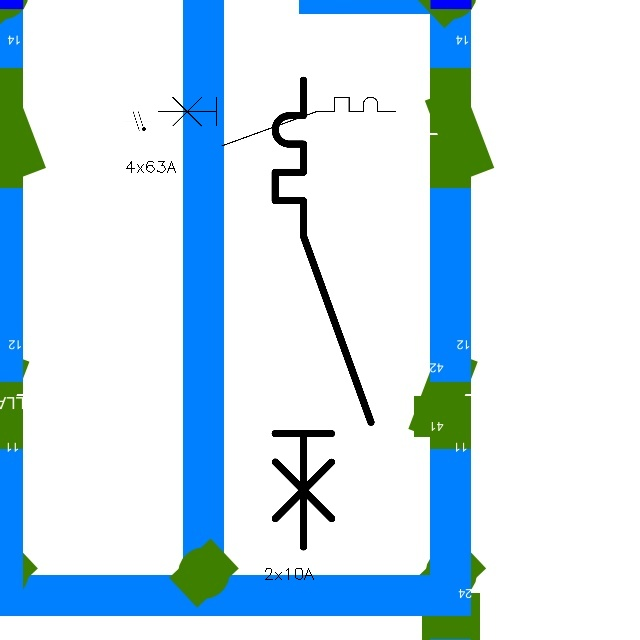interruptor_termomagnetico: (263, 68, 383, 559), (152, 91, 401, 152)
